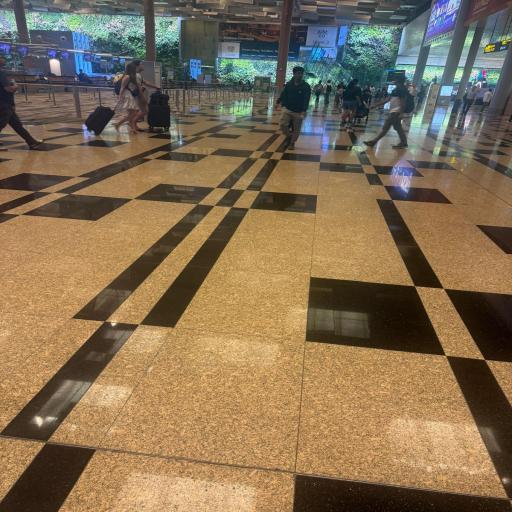person_left: (362, 76, 410, 148)
person_right: (0, 56, 44, 150)
person_with_luggage_right: (132, 59, 162, 133), (114, 64, 145, 135)
